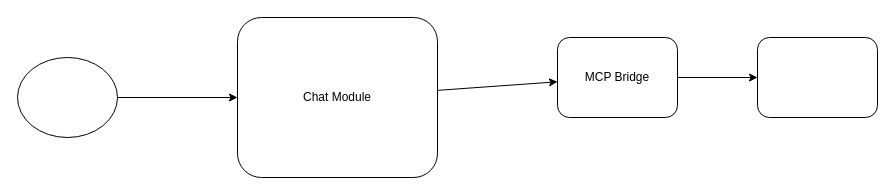
Image size: 895x195. Some labels were removed from this diagram. The shapes that lost their labels are listed below. From the top down, each one's centre as x and y in pixels, then its label:
At point (67, 97): "User".
At point (817, 77): "Tools".
